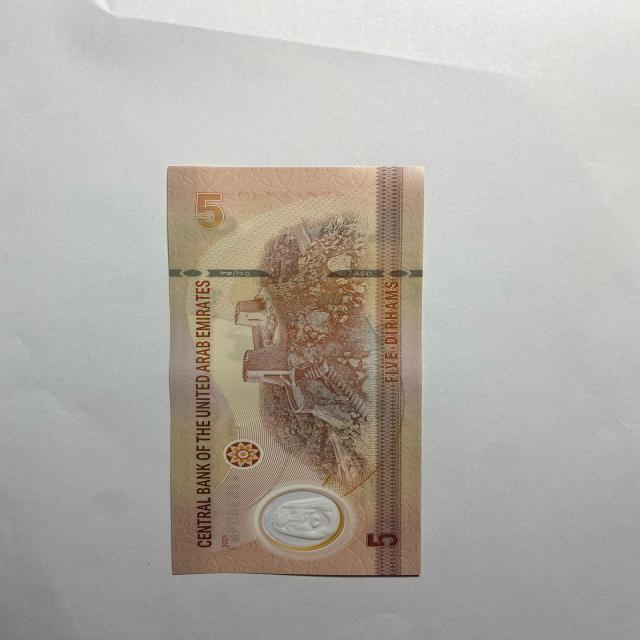5_AED: (167, 163, 425, 577)
